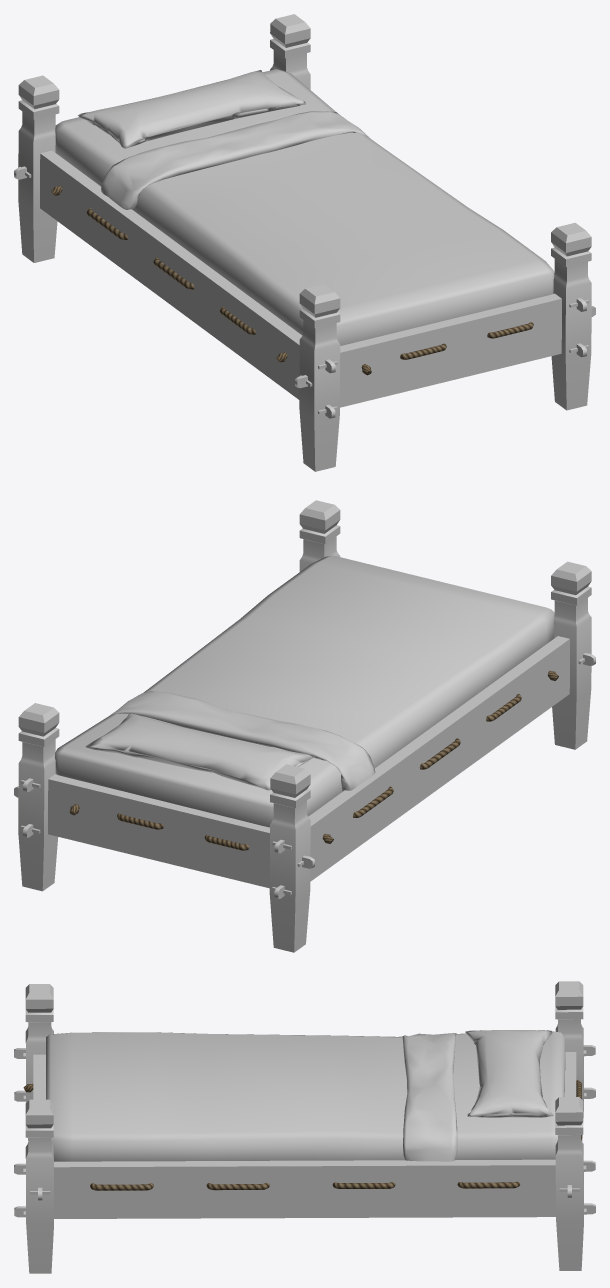
3 views of the same model, one above another, from view 1: azimuth 30°, elevation 25°; view 2: azimuth 150°, elevation 25°; view 3: azimuth 270°, elevation 25° (orthographic). The views are drawn at different scales.
Visible parts, largest first — view 1: Bed_LP_Bed_0, Bed_LP_rope_0; view 2: Bed_LP_Bed_0, Bed_LP_rope_0; view 3: Bed_LP_Bed_0, Bed_LP_rope_0.
Boxes of the visible parts, x1,y1,x2,y2 form: Bed_LP_Bed_0: [14, 14, 595, 471]; Bed_LP_rope_0: [51, 185, 533, 375]; Bed_LP_Bed_0: [14, 500, 595, 952]; Bed_LP_rope_0: [69, 670, 558, 850]; Bed_LP_Bed_0: [14, 981, 595, 1273]; Bed_LP_rope_0: [23, 1080, 581, 1190].
Size of the model in its own units: 116 by 66.14 by 208.
